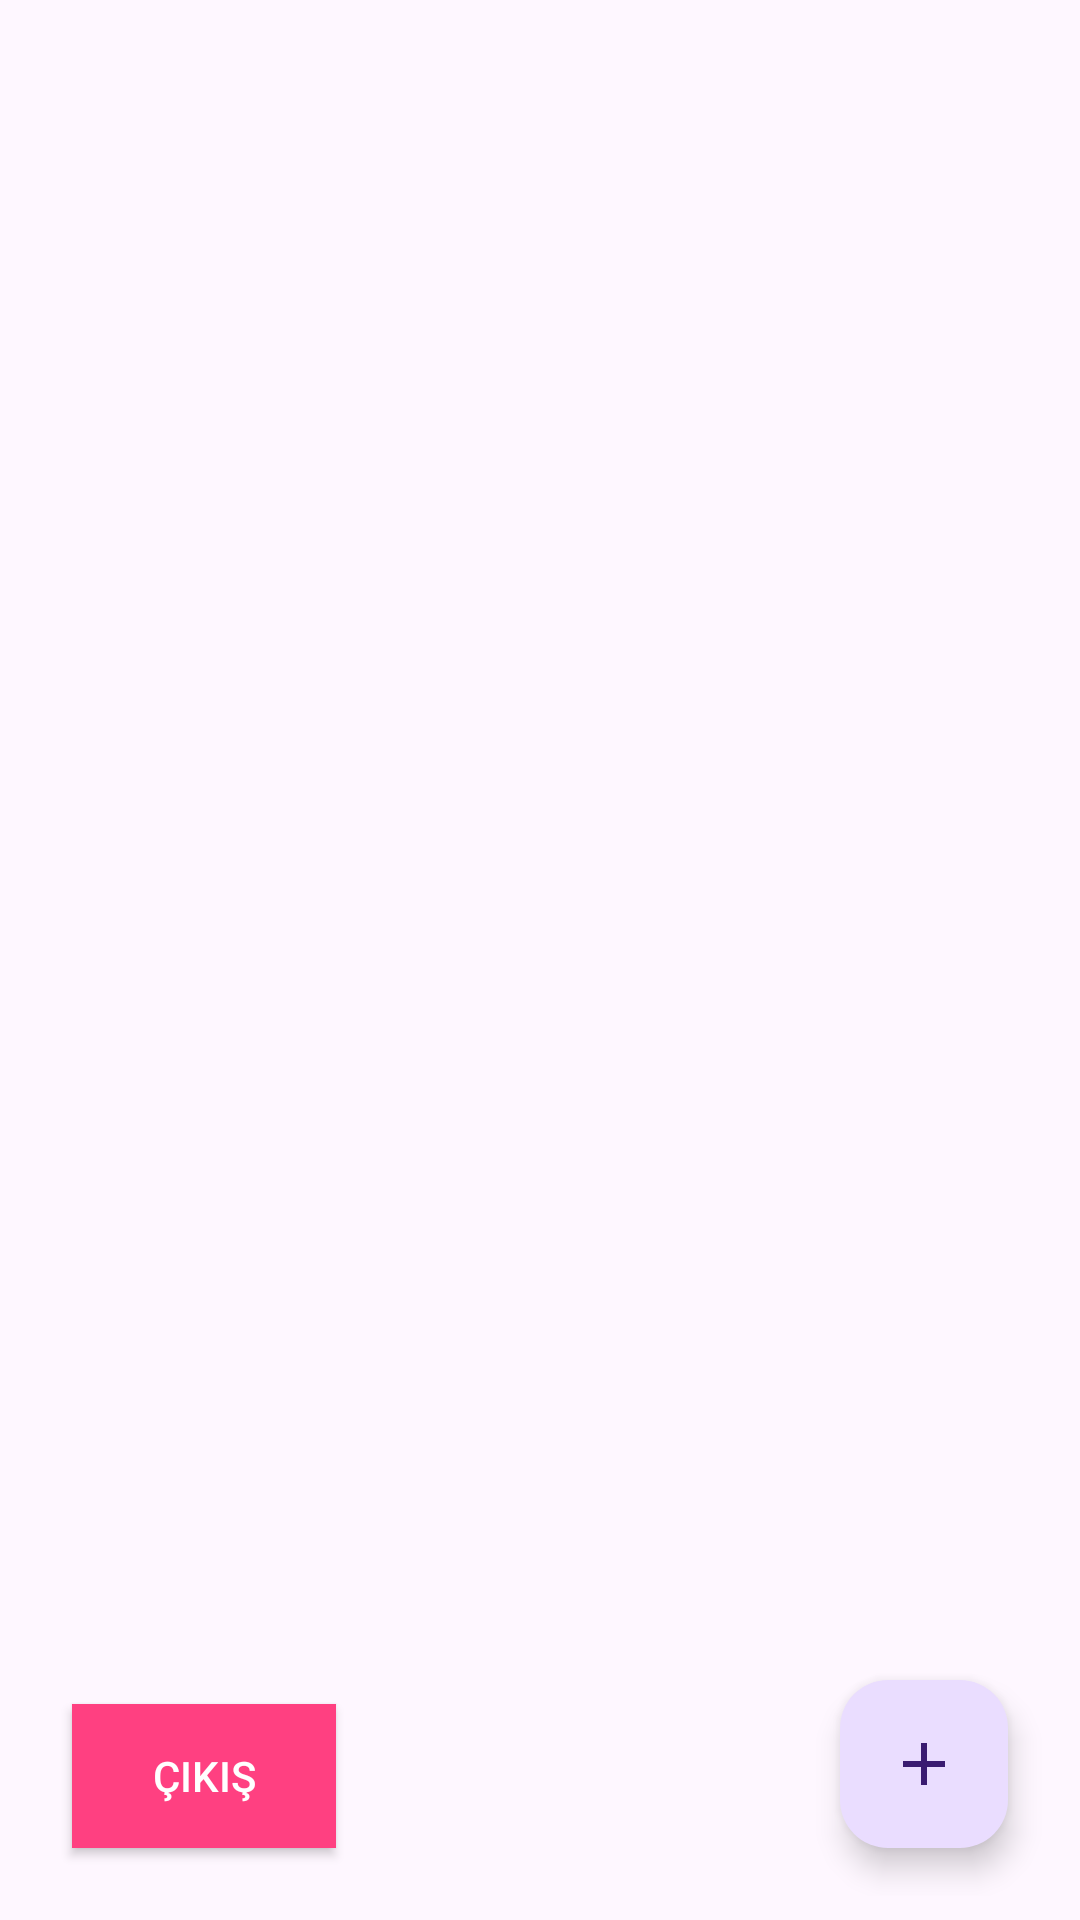

Locate icon controls on the screen. Image size 1080x1920, boxes as (x1, y1, x2, y2).
İlan Ekle: (840, 1680, 1008, 1848)
